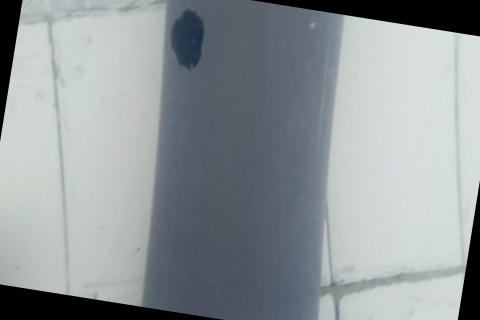kebocoran: (164, 6, 210, 73)
